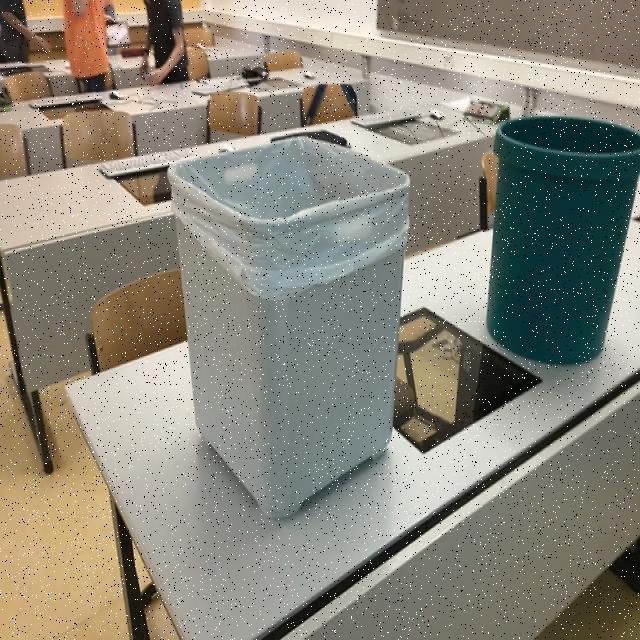garbage container: (146, 101, 428, 536), (479, 100, 640, 371)
